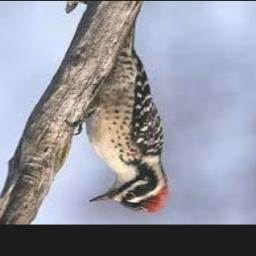Woodpecker: (66, 23, 172, 213)
